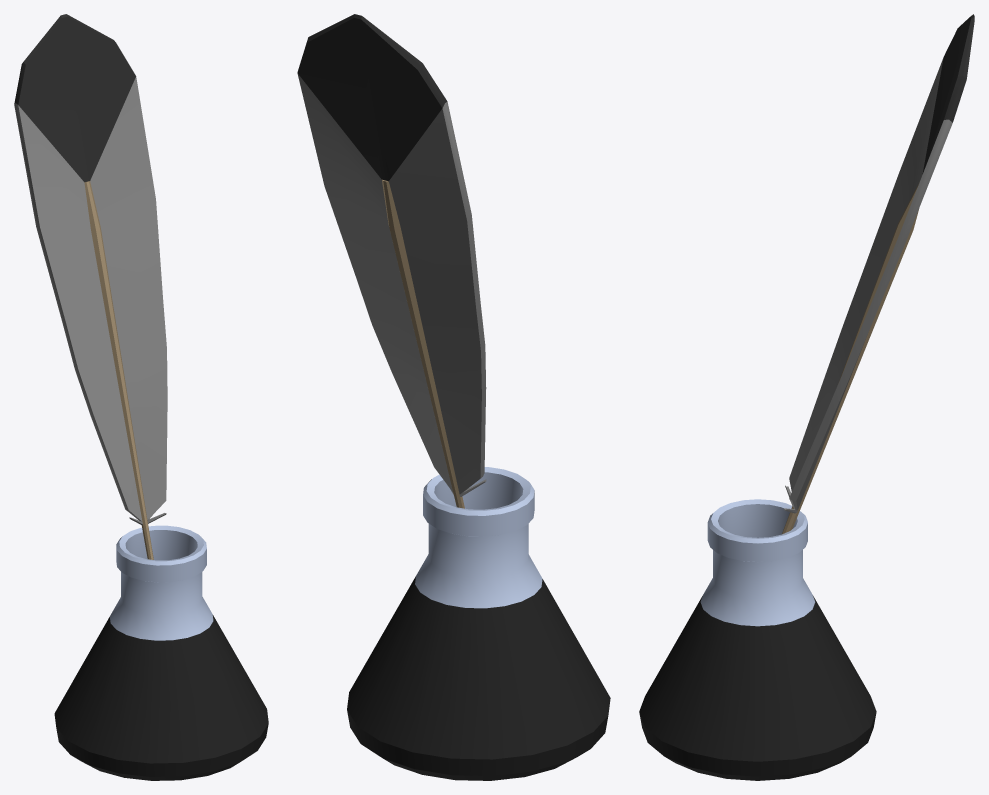
File: inkAndQuill.fbx
3 renders of one model, left to right at view 1: azimuth 30°, elevation 25°; view 2: azimuth 150°, elevation 25°; view 3: azimuth 270°, elevation 25°, orthographic. The views are drawn at different scales.
Parts seen in each view (by area): view 1: Ink and Quill; view 2: Ink and Quill; view 3: Ink and Quill.
Part boxes in pixels (x1,y1,x2,y2): Ink and Quill: [14, 14, 268, 780]; Ink and Quill: [297, 14, 610, 780]; Ink and Quill: [639, 14, 974, 780].
Bounding box in the file's own units: 12.41 × 17.54 × 41.67.
